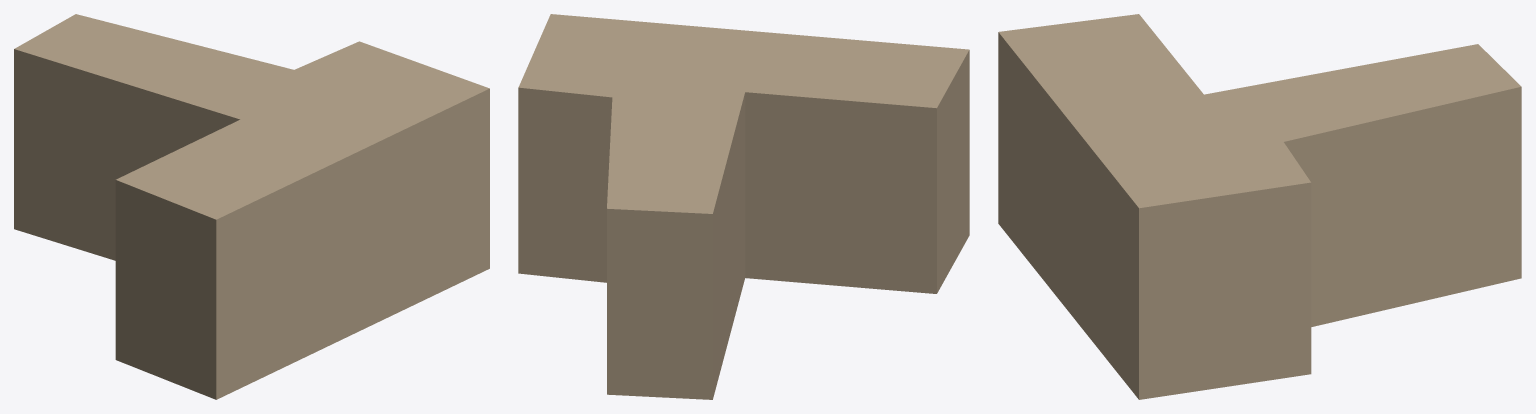
The model's file is bld_99003304.dae.
The picture shows the model from 3 angles, left to right: view 1: azimuth 30°, elevation 25°; view 2: azimuth 150°, elevation 25°; view 3: azimuth 270°, elevation 25°; orthographic projection. The views are drawn at different scales.
Parts seen in each view (by area): view 1: bld_99003304; view 2: bld_99003304; view 3: bld_99003304.
Boxes of the visible parts, x1=… form: bld_99003304: x1=14, y1=14, x2=489, y2=399; bld_99003304: x1=518, y1=14, x2=969, y2=399; bld_99003304: x1=998, y1=14, x2=1521, y2=399.
Size of the model in its own units: 17.39 by 19.79 by 8.
